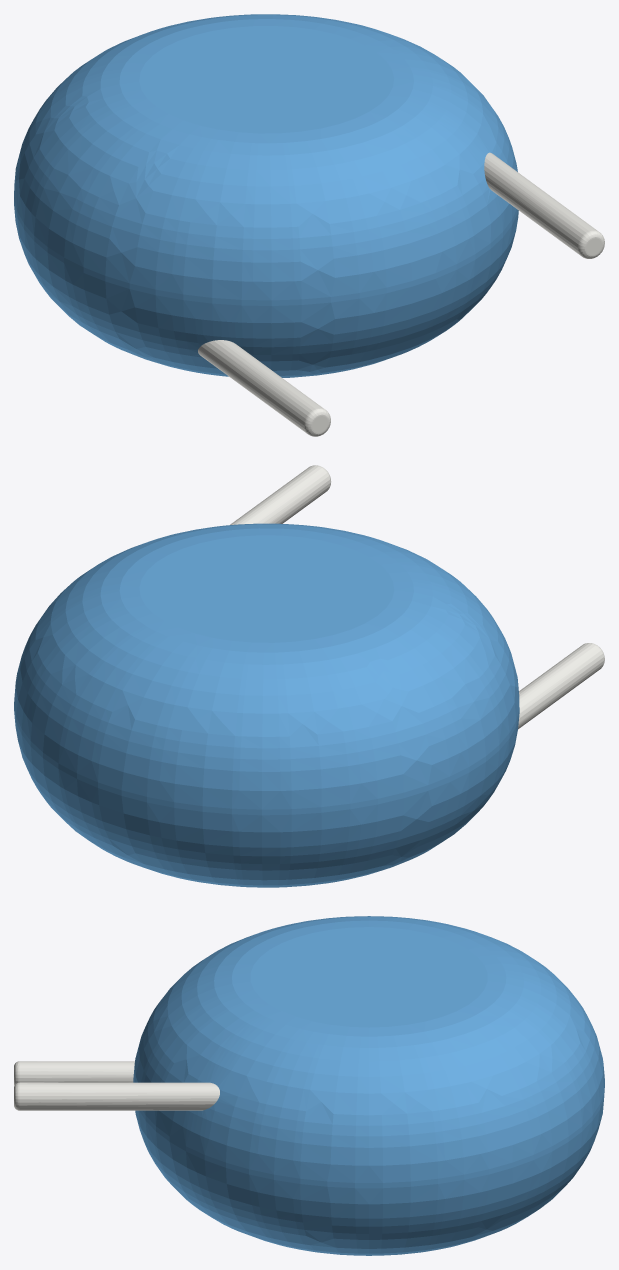
Rendered from RV_Disc_D12mm_W6.1mm_P7.5mm.glb.
The picture shows the model from 3 angles, top to bottom: view 1: azimuth 30°, elevation 25°; view 2: azimuth 150°, elevation 25°; view 3: azimuth 270°, elevation 25°; orthographic projection. The views are drawn at different scales.
Visible parts, largest first — view 1: Shape_IndexedFaceSet.001, Shape_IndexedFaceSet.002, Shape_IndexedFaceSet.003, Shape_IndexedFaceSet.006, Shape_IndexedFaceSet.004, Shape_IndexedFaceSet; view 2: Shape_IndexedFaceSet.001, Shape_IndexedFaceSet.002, Shape_IndexedFaceSet.003, Shape_IndexedFaceSet, Shape_IndexedFaceSet.006, Shape_IndexedFaceSet.004; view 3: Shape_IndexedFaceSet.001, Shape_IndexedFaceSet.002, Shape_IndexedFaceSet.003, Shape_IndexedFaceSet.004, Shape_IndexedFaceSet, Shape_IndexedFaceSet.006.
Boxes of the visible parts, left/top/right/bottom form: Shape_IndexedFaceSet.001: left=14, top=14, right=517, bottom=300; Shape_IndexedFaceSet.002: left=14, top=205, right=518, bottom=377; Shape_IndexedFaceSet.003: left=139, top=26, right=394, bottom=133; Shape_IndexedFaceSet.006: left=198, top=340, right=323, bottom=433; Shape_IndexedFaceSet.004: left=484, top=152, right=597, bottom=255; Shape_IndexedFaceSet: left=14, top=199, right=517, bottom=305; Shape_IndexedFaceSet.001: left=14, top=523, right=519, bottom=809; Shape_IndexedFaceSet.002: left=14, top=710, right=519, bottom=887; Shape_IndexedFaceSet.003: left=139, top=535, right=394, bottom=642; Shape_IndexedFaceSet: left=14, top=705, right=519, bottom=815; Shape_IndexedFaceSet.006: left=518, top=643, right=603, bottom=729; Shape_IndexedFaceSet.004: left=230, top=465, right=330, bottom=524; Shape_IndexedFaceSet.001: left=133, top=916, right=604, bottom=1182; Shape_IndexedFaceSet.002: left=135, top=1099, right=603, bottom=1255; Shape_IndexedFaceSet.003: left=250, top=927, right=487, bottom=1027; Shape_IndexedFaceSet.004: left=19, top=1082, right=219, bottom=1110; Shape_IndexedFaceSet: left=139, top=1083, right=604, bottom=1188; Shape_IndexedFaceSet.006: left=19, top=1061, right=134, bottom=1082.
Size of the model in its own units: 4.72 by 2.4 by 5.92.
